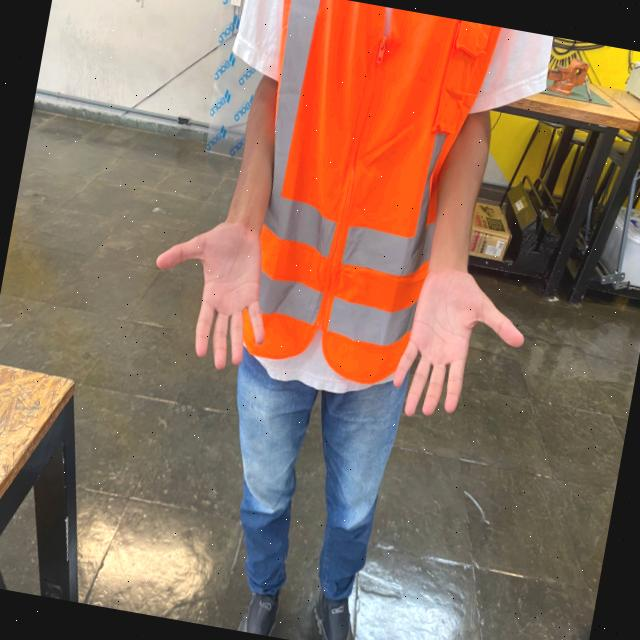BOTA: (232, 575, 289, 638), (312, 575, 359, 640)
COLETE: (230, 0, 506, 393)
SEM LUVA: (390, 270, 528, 426), (147, 213, 273, 369)
